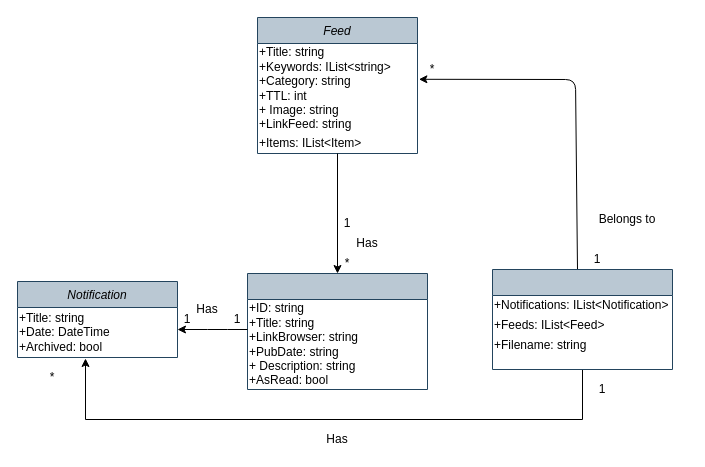
The diagram is 705 pixels wide and 467 high, and some of its shapes have lost their labels. The box of each missing label's shape, as (x1, y1, x2, y2) in pixels:
Data: (492, 268, 672, 370)
Item: (246, 272, 428, 390)
